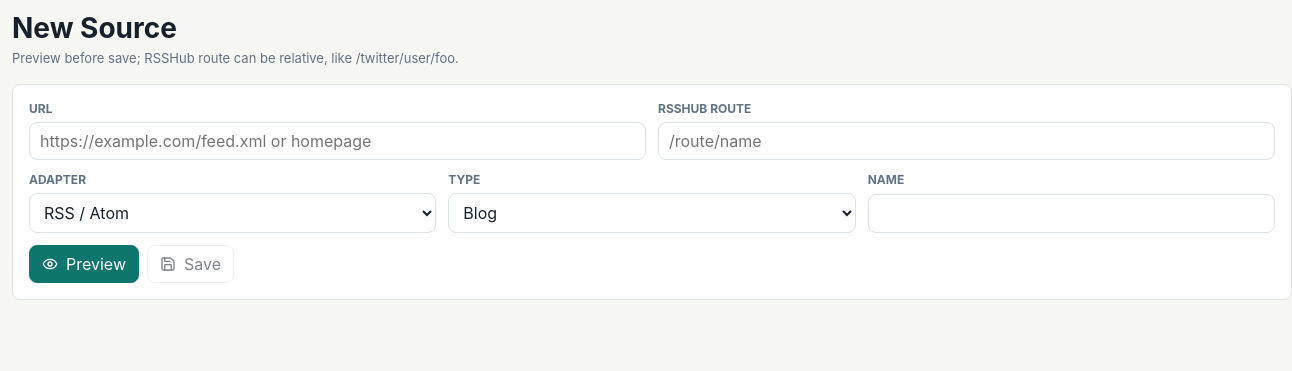
Test: NewSourcePage › shows preview failures
The image size is (1292, 371).
Step 1. Click the button "Preview" → x=84, y=264, box [29,245,139,283]
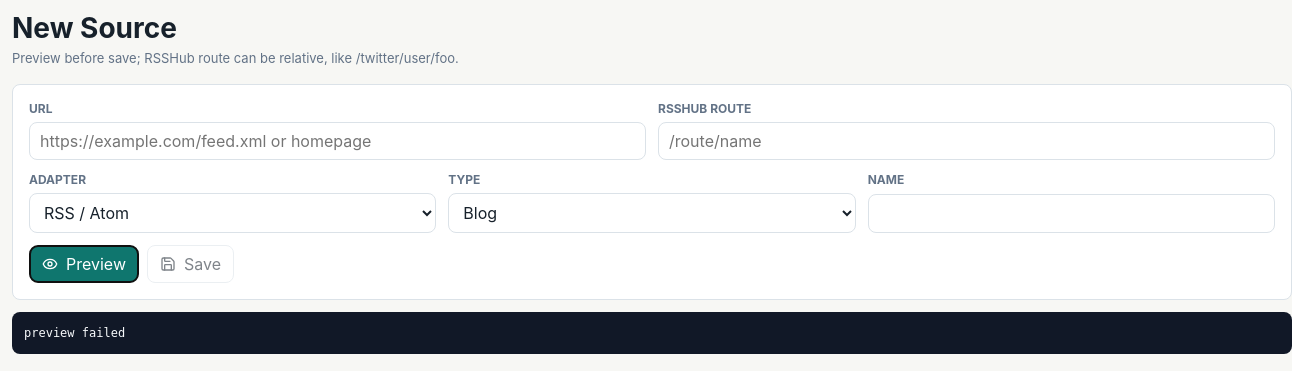
Check: the text "preview failed" is shown, box [12,312,1291,354]
